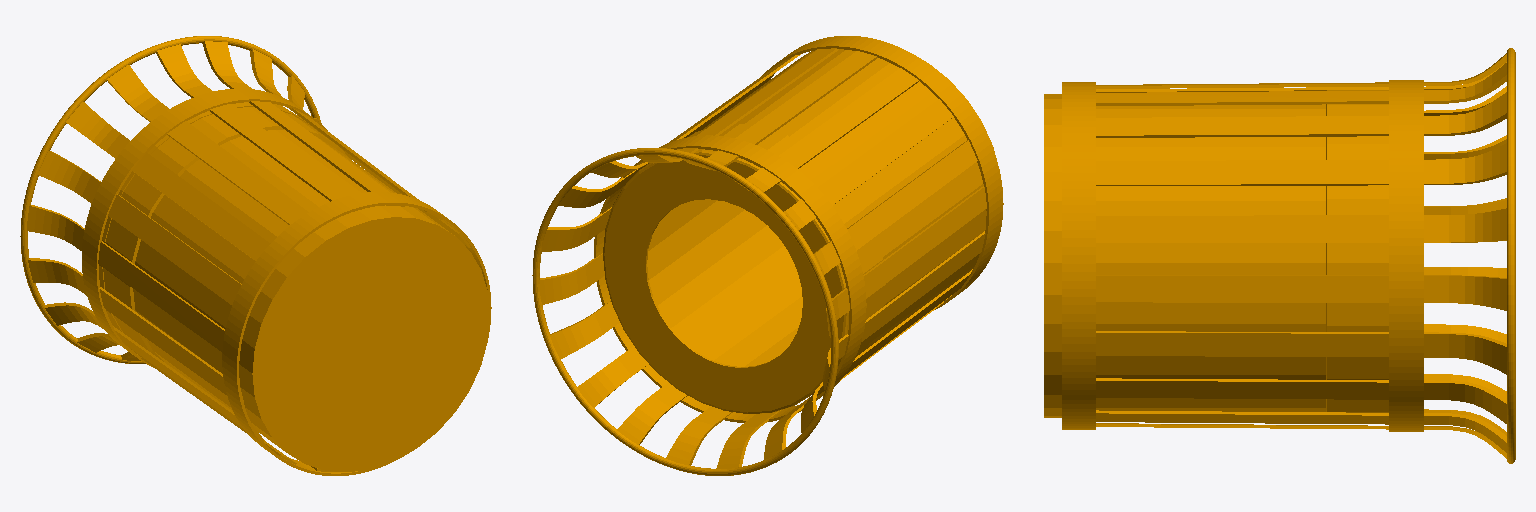
robot.urdf — none:
<robot name="none">
       <link name="none">
           <visual>
               <origin xyz="0 0 0" />
               <geometry>
                   <mesh filename="uploads_files_3723875_Trashcan.obj" scale="0.3 0.3 0.3" />
               </geometry>
           </visual>
          <collision>
<origin rpy="1.57 0 0" xyz="0 0 0.25" />
              <geometry>
                  <box size="0.591299 0.500000 0.615937" />
              </geometry>
          </collision>

          <inertial>
            <mass value="0.0" />
            <inertia ixx="0.05" ixy="0.0" ixz="0.0" iyy="0.05" iyz="0.0" izz="0.05"/>
          </inertial>
      </link>
  </robot>

--- Render facts (derived) ---
Views: 3 orthographic renders of the robot side by side, from view 1: azimuth 30°, elevation 25°; view 2: azimuth 150°, elevation 25°; view 3: azimuth 270°, elevation 25°.
Model none with 1 links and 0 joints (none), rooted at none, posed every joint at zero.
Links seen in each view (by area): view 1: none; view 2: none; view 3: none.
Boxes of the visible links, box(x1,y1,x2,y2) form: none: box(20, 36, 491, 475); none: box(532, 36, 1003, 475); none: box(1044, 48, 1515, 463).
Size in the robot's own frame: 0.4047 by 0.4584 by 0.4047 metres.
1 mesh visuals loaded from 1 distinct referenced files (1 OBJ).